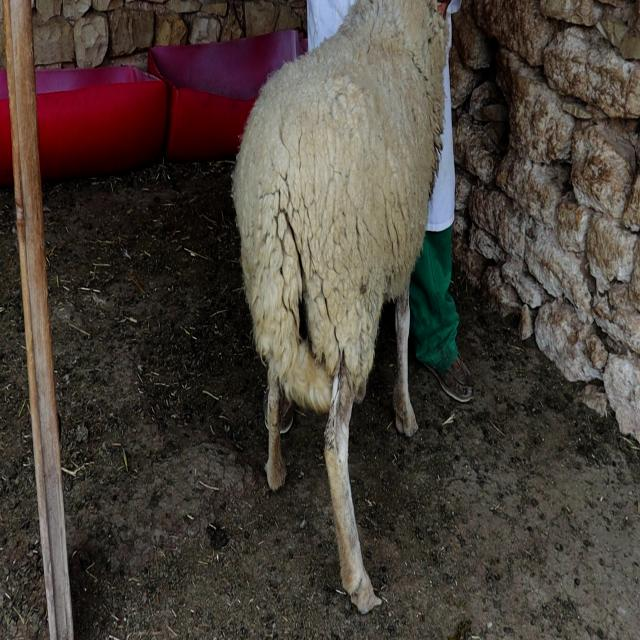Score_4: (232, 0, 449, 613)
